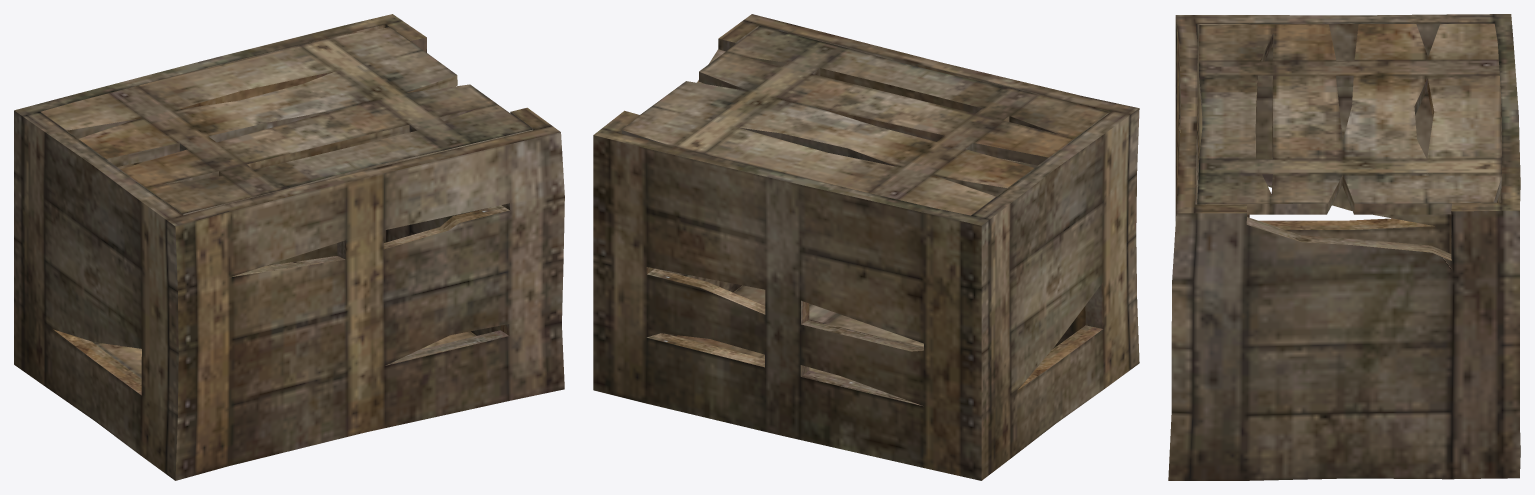
3 renders of one model, left to right at view 1: azimuth 30°, elevation 25°; view 2: azimuth 150°, elevation 25°; view 3: azimuth 270°, elevation 25°, orthographic. The views are drawn at different scales.
Parts seen in each view (by area): view 1: LV_Common_Object_A_WoodBox04_SM_PYO; view 2: LV_Common_Object_A_WoodBox04_SM_PYO; view 3: LV_Common_Object_A_WoodBox04_SM_PYO.
Boxes of the visible parts, bbox=[...] form: LV_Common_Object_A_WoodBox04_SM_PYO: bbox=[14, 14, 564, 480]; LV_Common_Object_A_WoodBox04_SM_PYO: bbox=[593, 14, 1139, 480]; LV_Common_Object_A_WoodBox04_SM_PYO: bbox=[1168, 14, 1520, 480].
Bounding box in the file's own units: 0.1439 × 0.0898 × 0.1071.
Materials: 1 (1 with a texture image).
